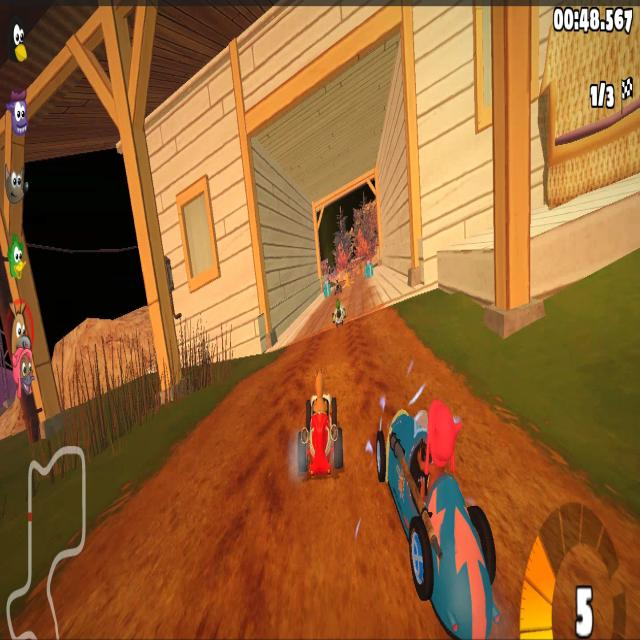player_kart: (297, 369, 346, 487)
track: (125, 497, 372, 631), (216, 404, 296, 493), (280, 340, 427, 362), (246, 368, 295, 400), (162, 461, 216, 489), (355, 292, 396, 327), (299, 313, 332, 335), (345, 266, 358, 284)
